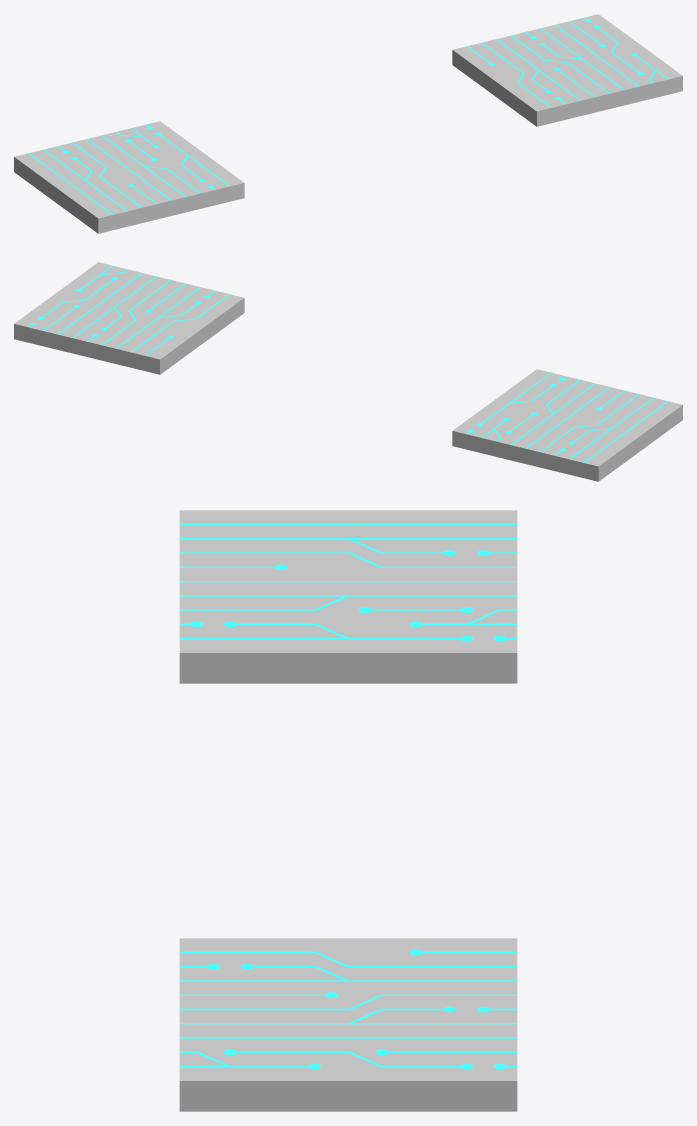
Rendered from floor_plat3.glb.
The picture shows the model from 3 angles, top to bottom: view 1: azimuth 30°, elevation 25°; view 2: azimuth 150°, elevation 25°; view 3: azimuth 270°, elevation 25°; orthographic projection. The views are drawn at different scales.
Visible parts, largest first — view 1: Cube.002, Plane.044; view 2: Cube.002, Plane.044; view 3: Cube.002, Plane.044.
Boxes of the visible parts, <box> form: Cube.002: <box>14,14,682,233</box>; Plane.044: <box>28,17,668,214</box>; Cube.002: <box>14,262,682,481</box>; Plane.044: <box>28,265,668,462</box>; Cube.002: <box>179,510,517,1111</box>; Plane.044: <box>179,523,517,1069</box>.
Bounding box in the file's own units: 80 × 2.01 × 20.
